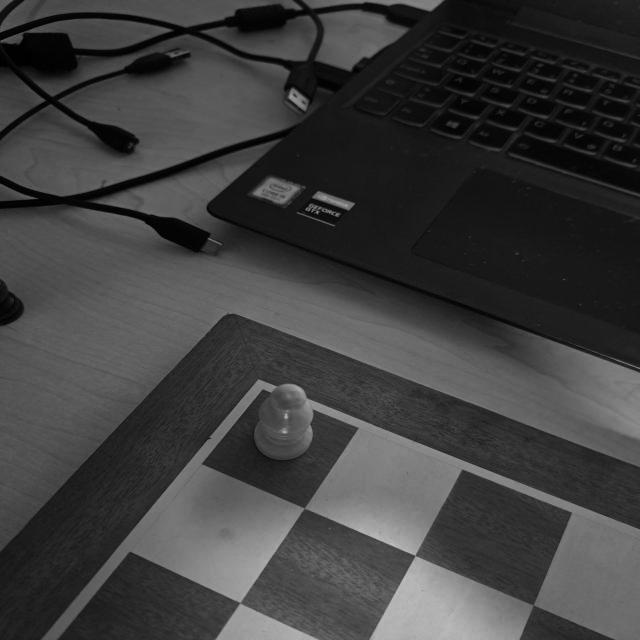chess-table-corners: (212, 366, 312, 418)
